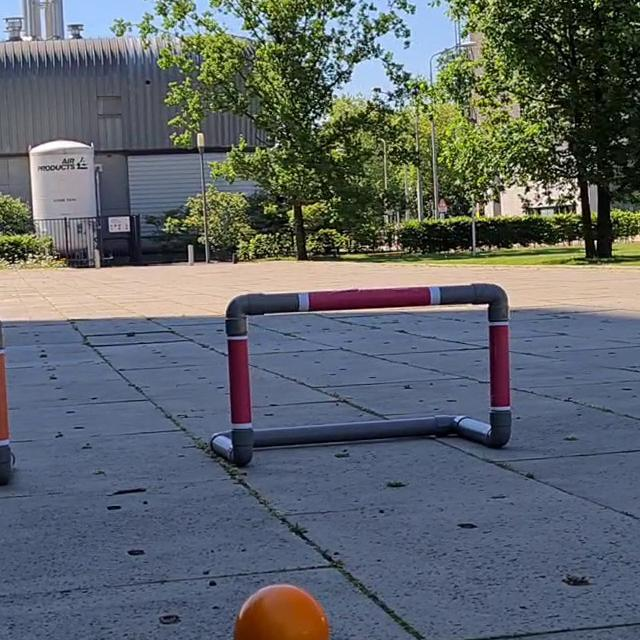ball: (232, 579, 330, 640)
